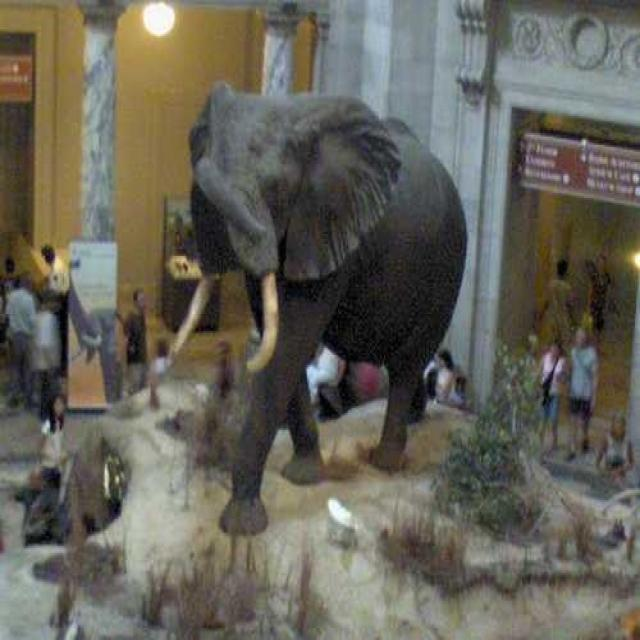Elephant: (164, 79, 468, 534)
